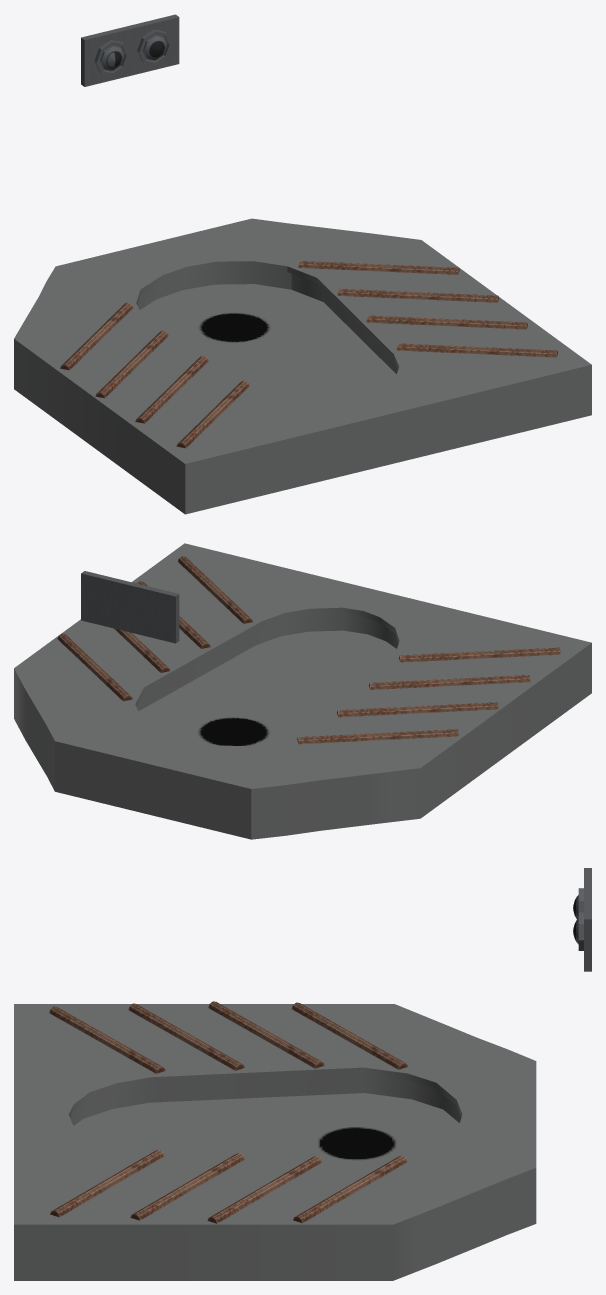
The model's file is ass_23_toilet.fbx.
3 renders of one model, top to bottom at view 1: azimuth 30°, elevation 25°; view 2: azimuth 150°, elevation 25°; view 3: azimuth 270°, elevation 25°, orthographic. The views are drawn at different scales.
Visible parts, largest first — view 1: pCylinder16, polySurface7; view 2: pCylinder16, polySurface7; view 3: pCylinder16, polySurface7.
Part boxes in pixels (x1,y1,x2,y2): pCylinder16: [14, 218, 591, 514]; polySurface7: [81, 14, 179, 86]; pCylinder16: [14, 543, 591, 839]; polySurface7: [81, 571, 179, 643]; pCylinder16: [14, 1001, 536, 1280]; polySurface7: [573, 868, 591, 971].
Size of the model in its own units: 70 by 40.95 by 77.45.
Materials: 5 (5 with a texture image).
